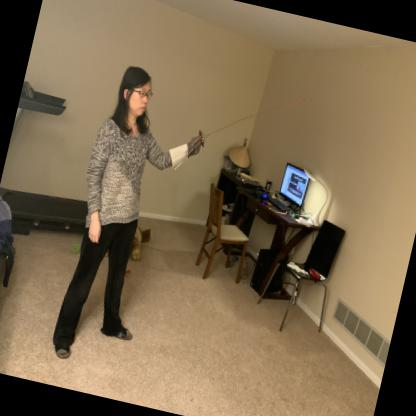foil-tip: (290, 88, 316, 112)
hand-and-foil: (168, 58, 322, 194)
